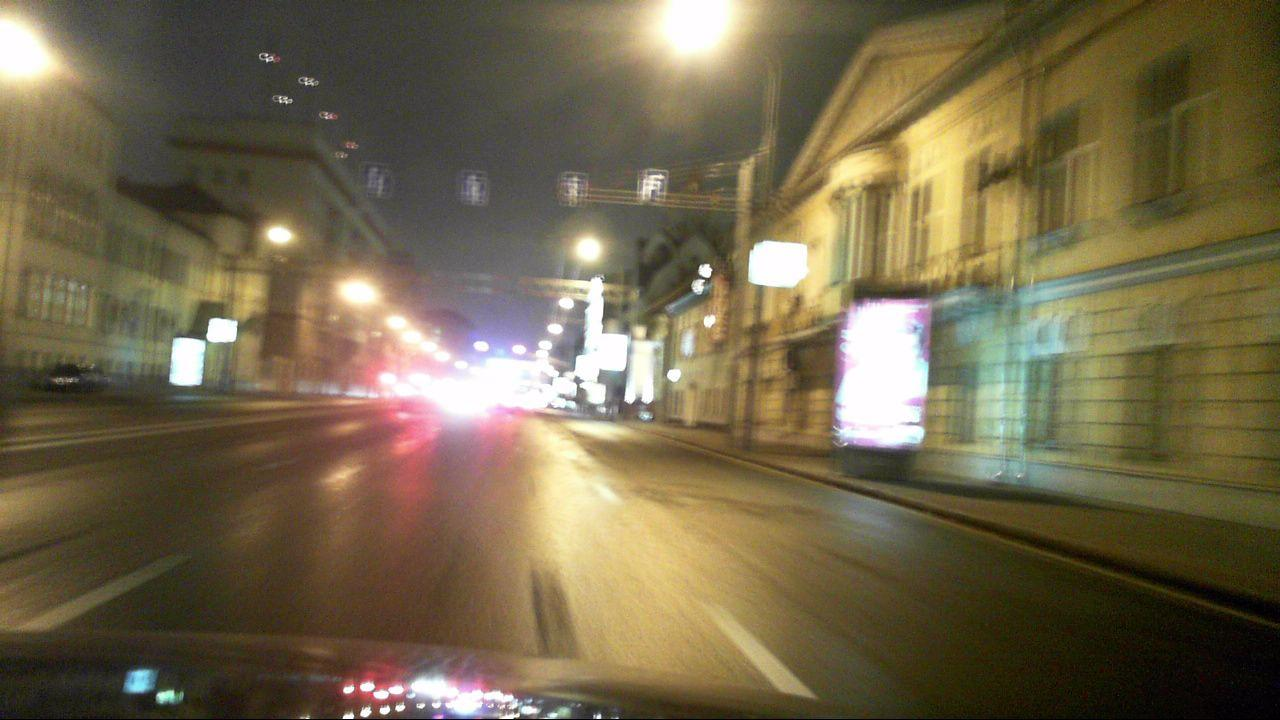5_15_2: (559, 174, 590, 207), (459, 170, 487, 206), (639, 171, 669, 204), (359, 164, 389, 194)
